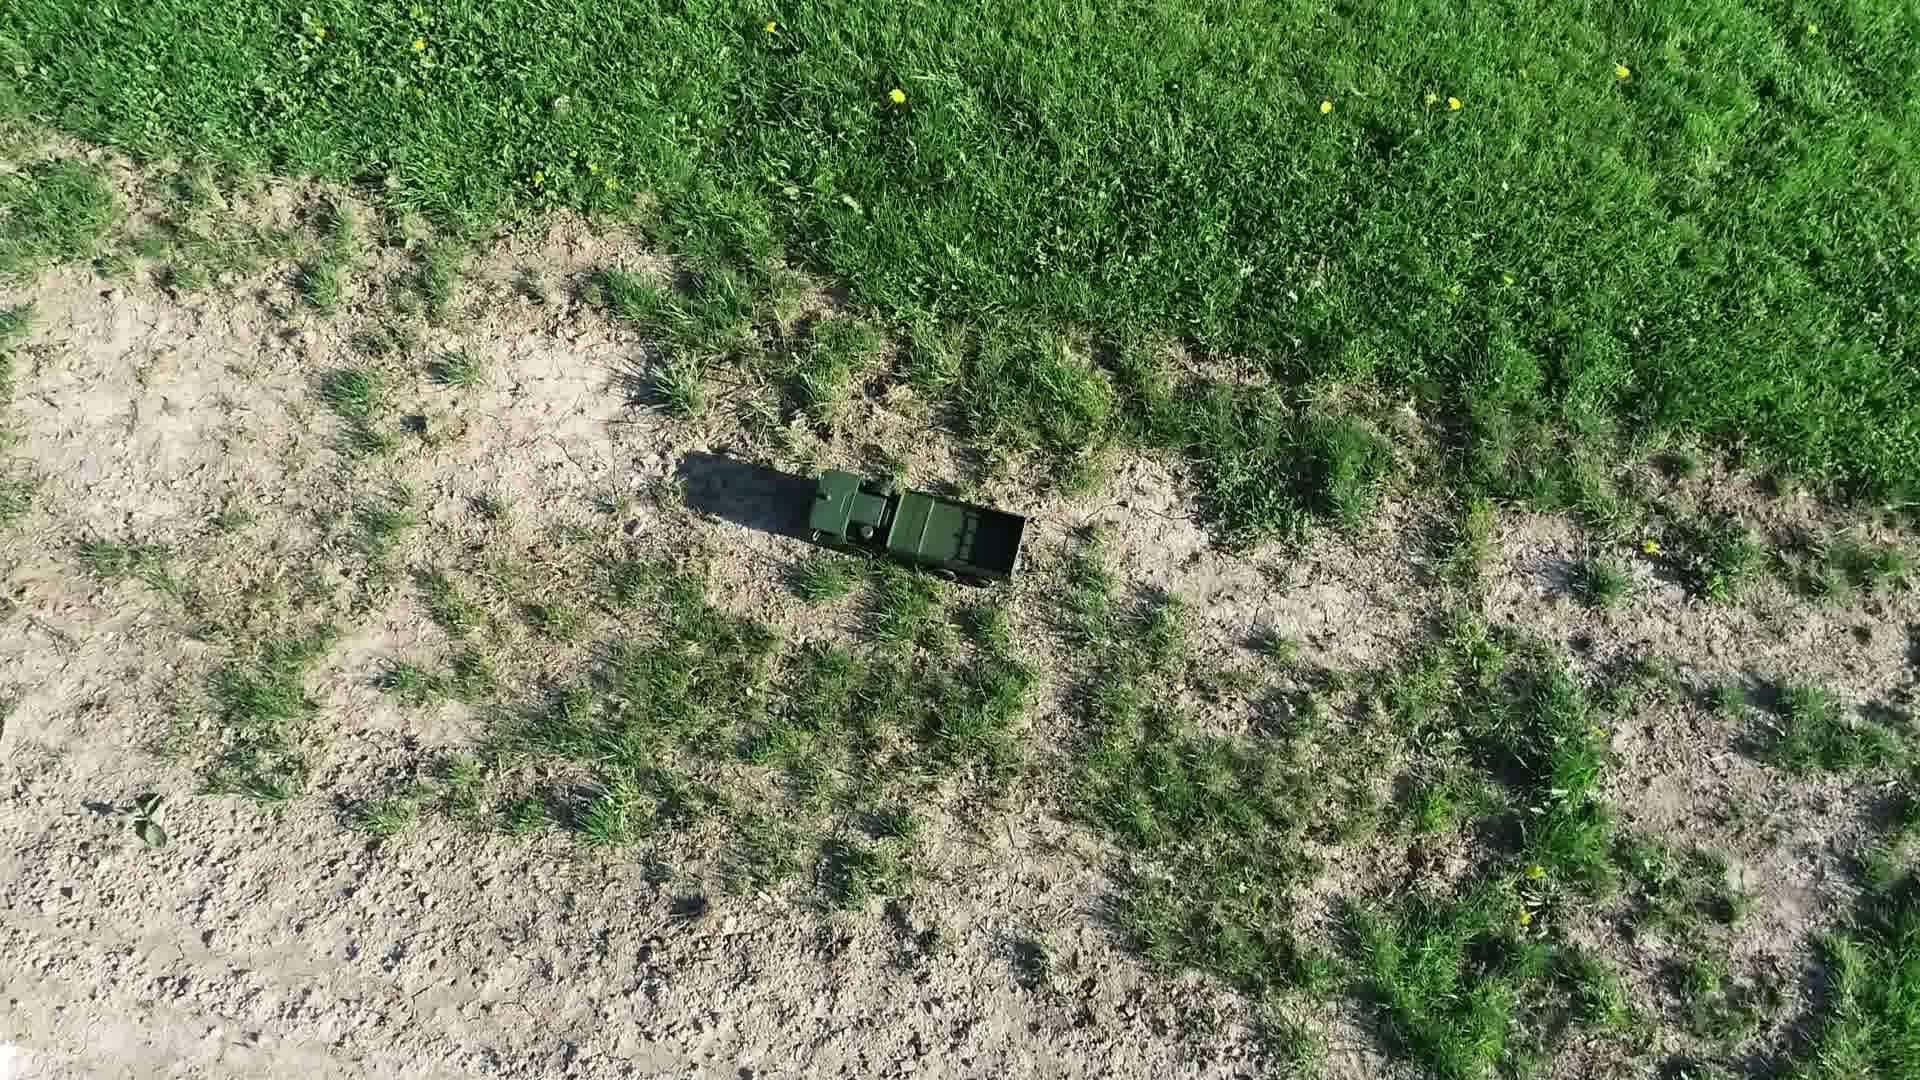transporter9: (796, 465, 1036, 603)
